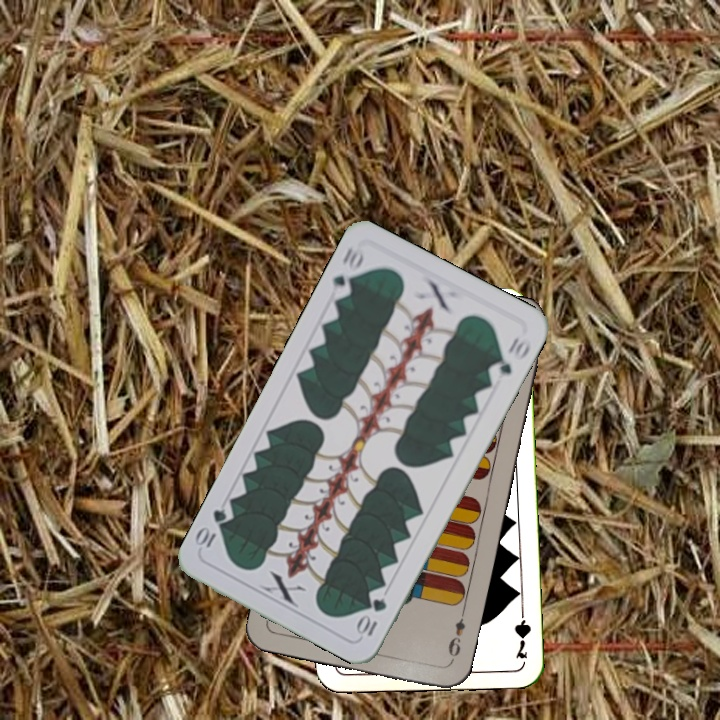E9: (444, 606, 468, 665)
G10: (327, 243, 368, 302), (353, 594, 390, 641)
G7: (510, 603, 533, 662)
